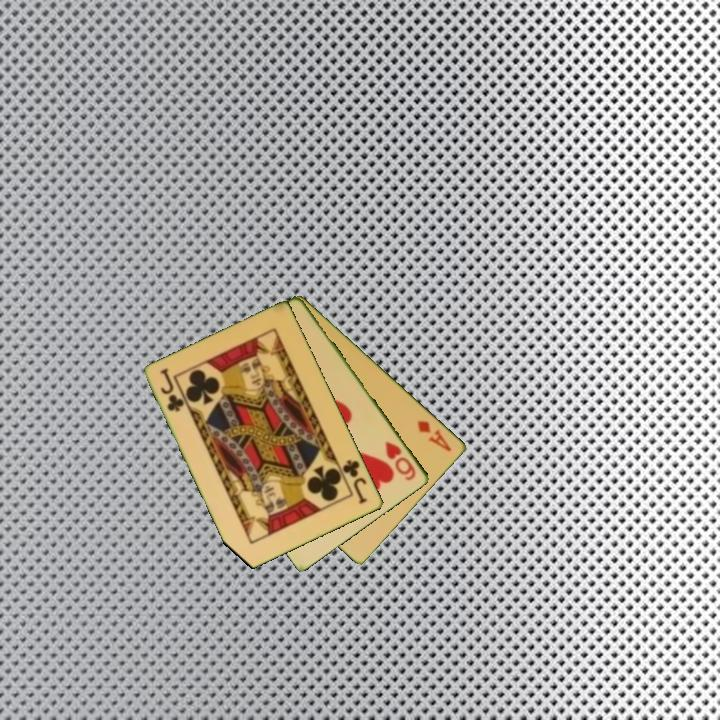6h: (382, 437, 419, 484)
Ad: (414, 417, 455, 455)
Jc: (339, 456, 370, 507), (157, 365, 187, 415)
